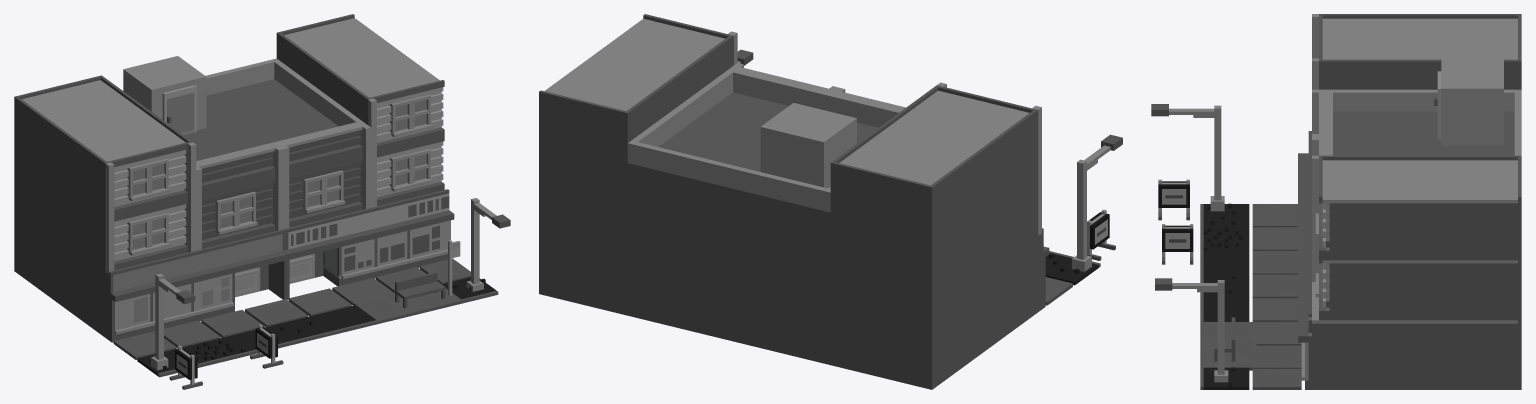
The model's file is scene_store9.obj.
3 renders of one model, left to right at view 1: azimuth 30°, elevation 25°; view 2: azimuth 150°, elevation 25°; view 3: azimuth 270°, elevation 25°, orthographic. The views are drawn at different scales.
Bounding box in the file's own units: 124 × 64 × 106.
